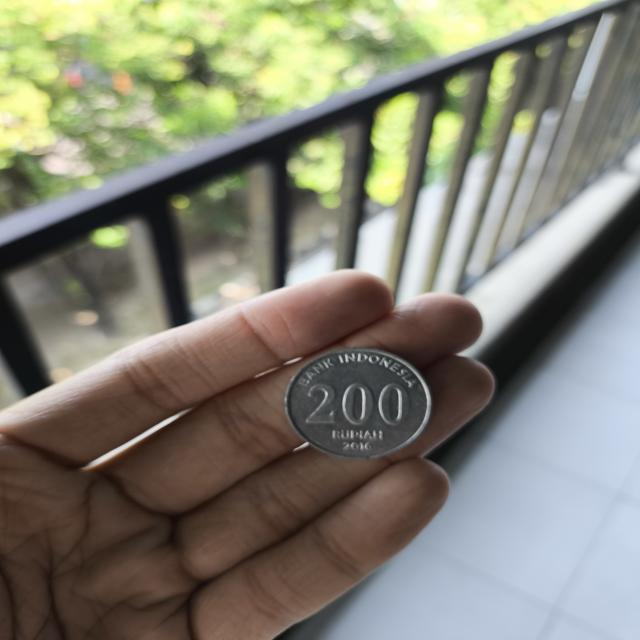1000-sawit: (237, 312, 487, 485)
